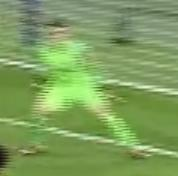goalkeeper: (20, 16, 161, 173)
